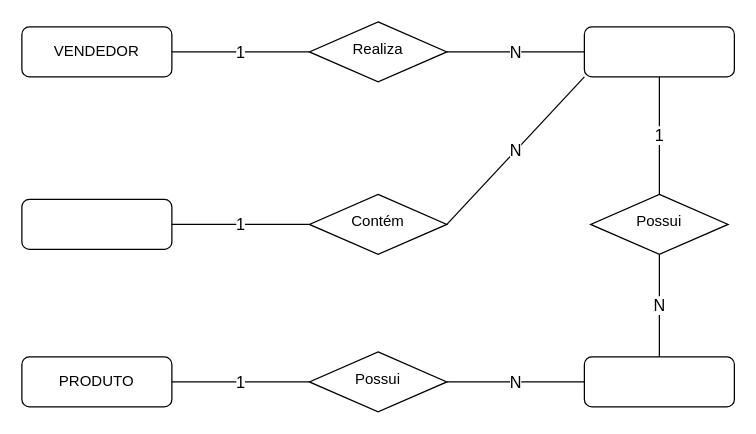
Image size: 756x434. Some labels were removed from this diagram. The centre of each missing label's shape, as x and y in pixels:
"CLIENTE" belongs at [96,223].
"ITENS VENDIDOS" belongs at [658,381].
"VENDA" belongs at [658,51].
